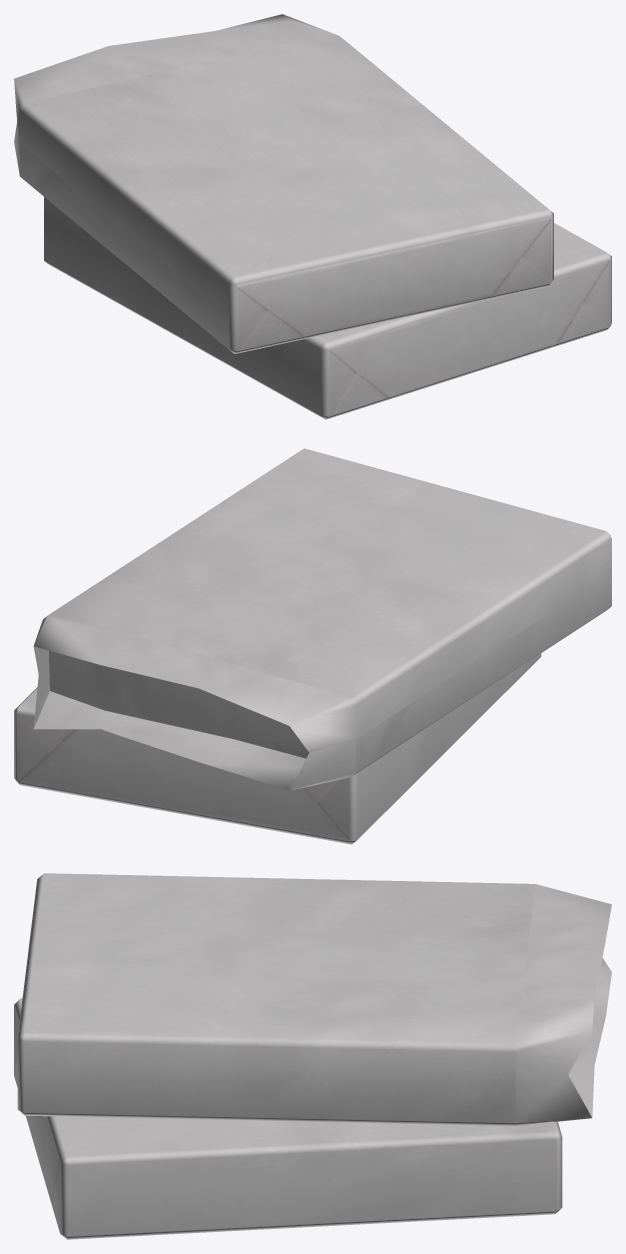
File: Paper_Stacks_1.fbx
The picture shows the model from 3 angles, top to bottom: view 1: azimuth 30°, elevation 25°; view 2: azimuth 150°, elevation 25°; view 3: azimuth 270°, elevation 25°; orthographic projection. The views are drawn at different scales.
Visible parts, largest first — view 1: Paper_Stacks_1; view 2: Paper_Stacks_1; view 3: Paper_Stacks_1.
Part boxes in pixels (left/top/right/bottom): Paper_Stacks_1: left=14, top=14, right=611, bottom=419; Paper_Stacks_1: left=14, top=448, right=611, bottom=844; Paper_Stacks_1: left=14, top=873, right=611, bottom=1239.
Size of the model in its own units: 37.58 by 15.05 by 46.08.
